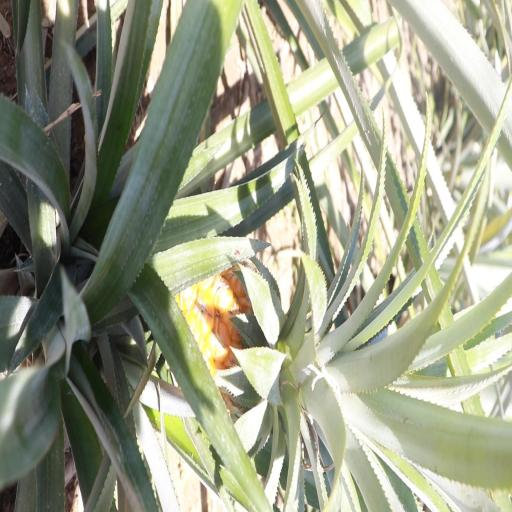Pineapple - v8 v1: (177, 233, 398, 429)
